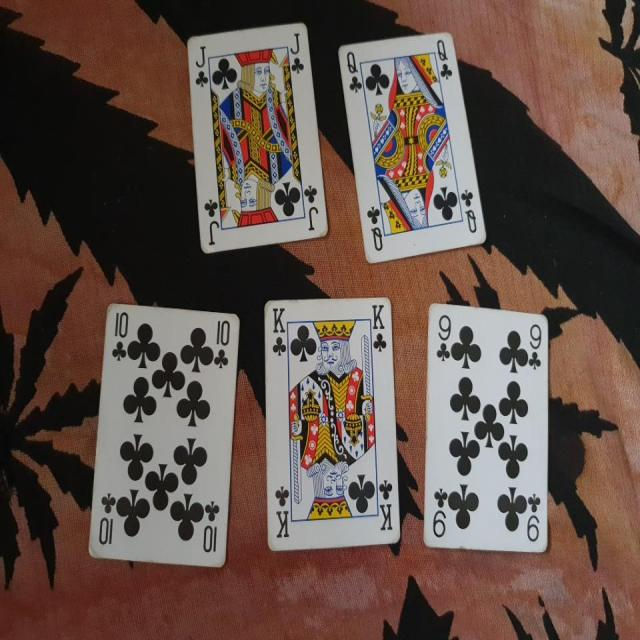10 Trefoils: (88, 300, 240, 570)
9 Trefoils: (423, 301, 551, 554)
J Trefoils: (186, 21, 331, 252)
K Trefoils: (262, 294, 402, 551)
Q Trefoils: (337, 32, 488, 261)
